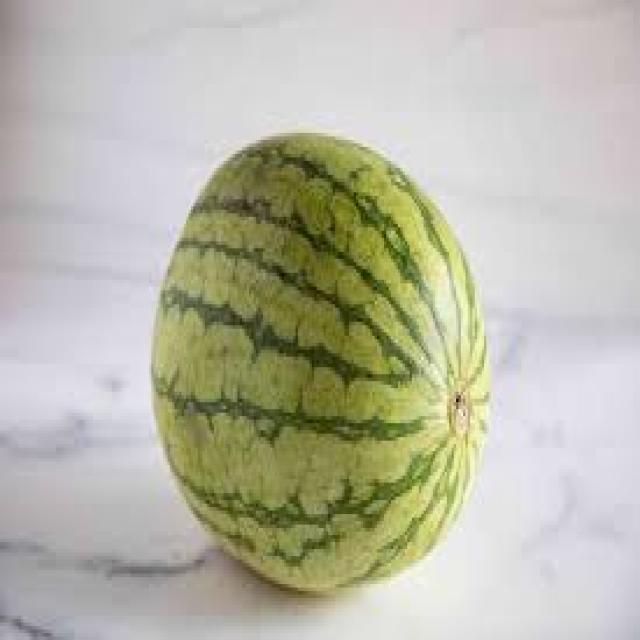watermelon: (149, 126, 491, 594)
